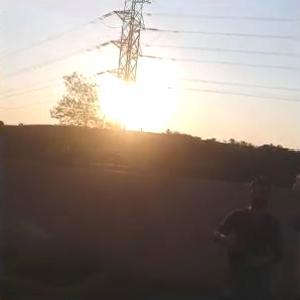follow: (207, 172, 290, 299)
